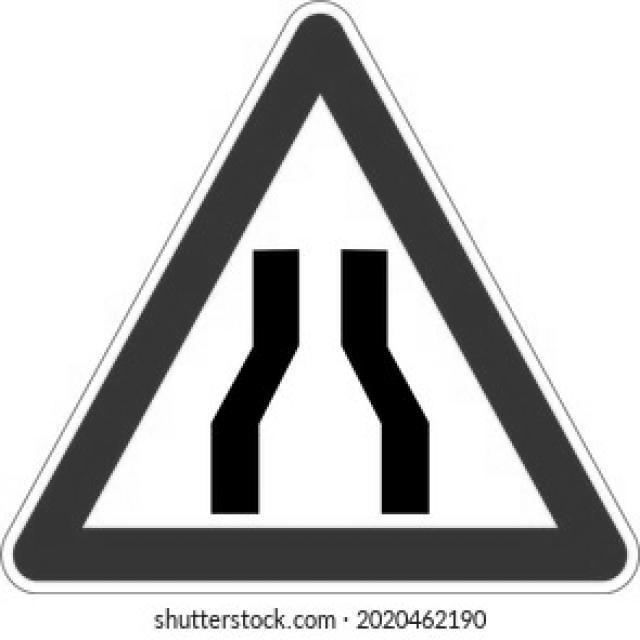narrow road ahead: (12, 12, 610, 594)
